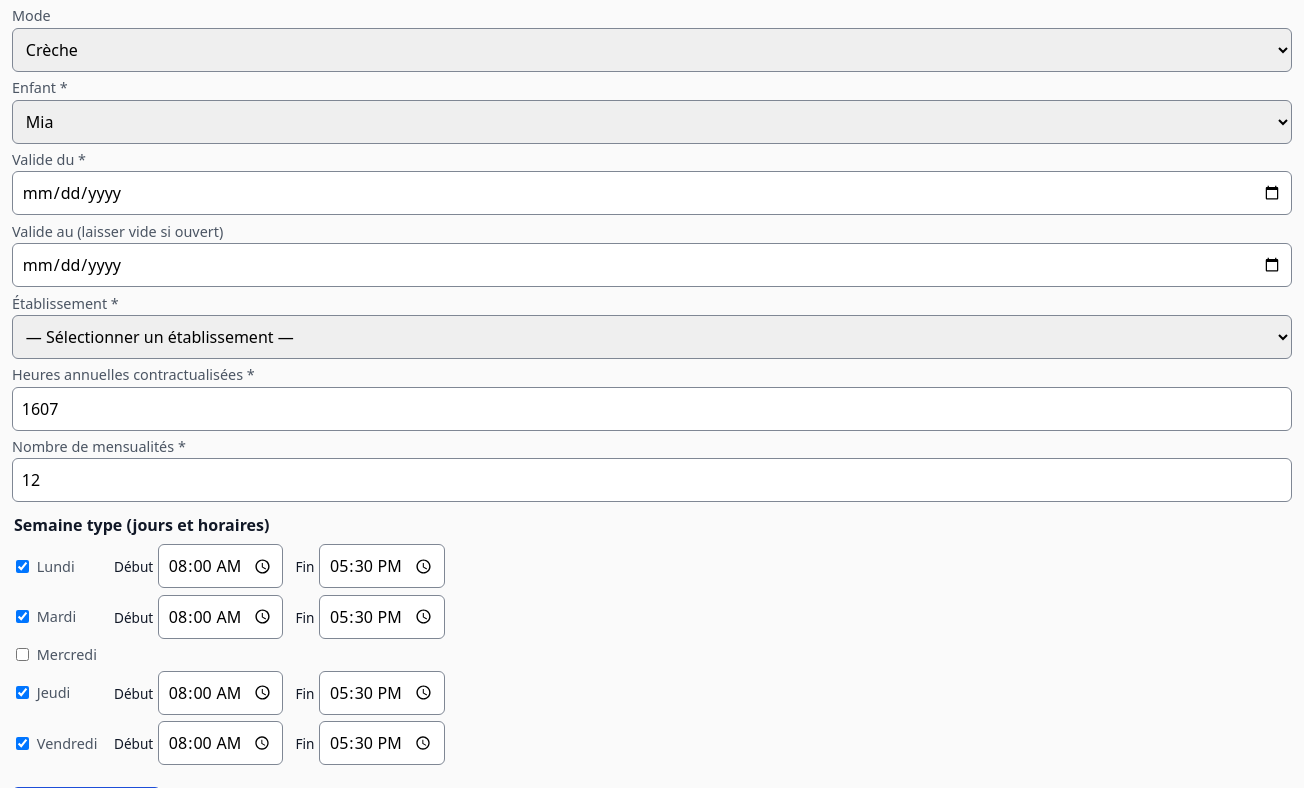
Test: ContratForm › explicite le sigle ALSH via un <abbr> dans la colonne
The image size is (1304, 788).
Select "Centre de loisirs" in the dropdown labelled "Mode" at (652, 50), box top-left (12, 28), bottom-right (1292, 72)
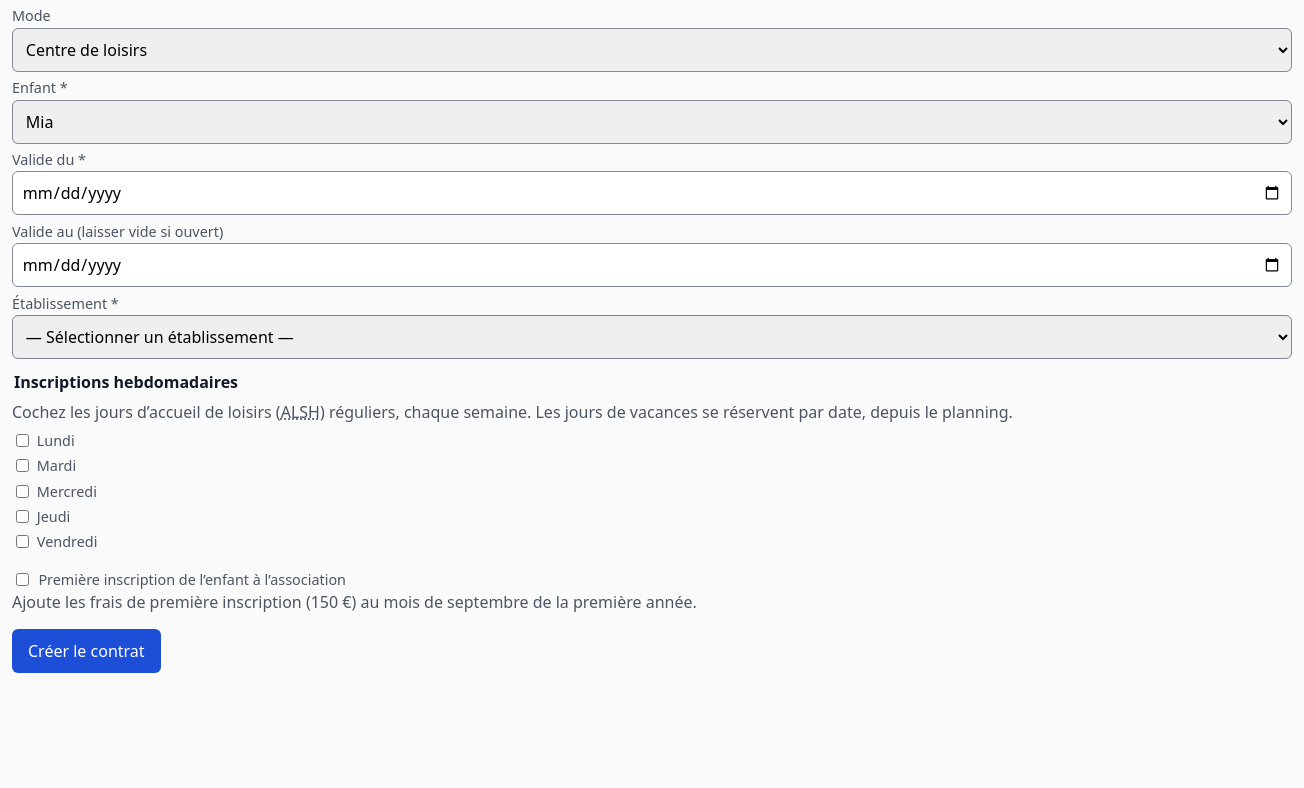
Now the text titled "Accueil de loisirs sans hébergement" reads "ALSH", box top-left (281, 401), bottom-right (320, 423)
